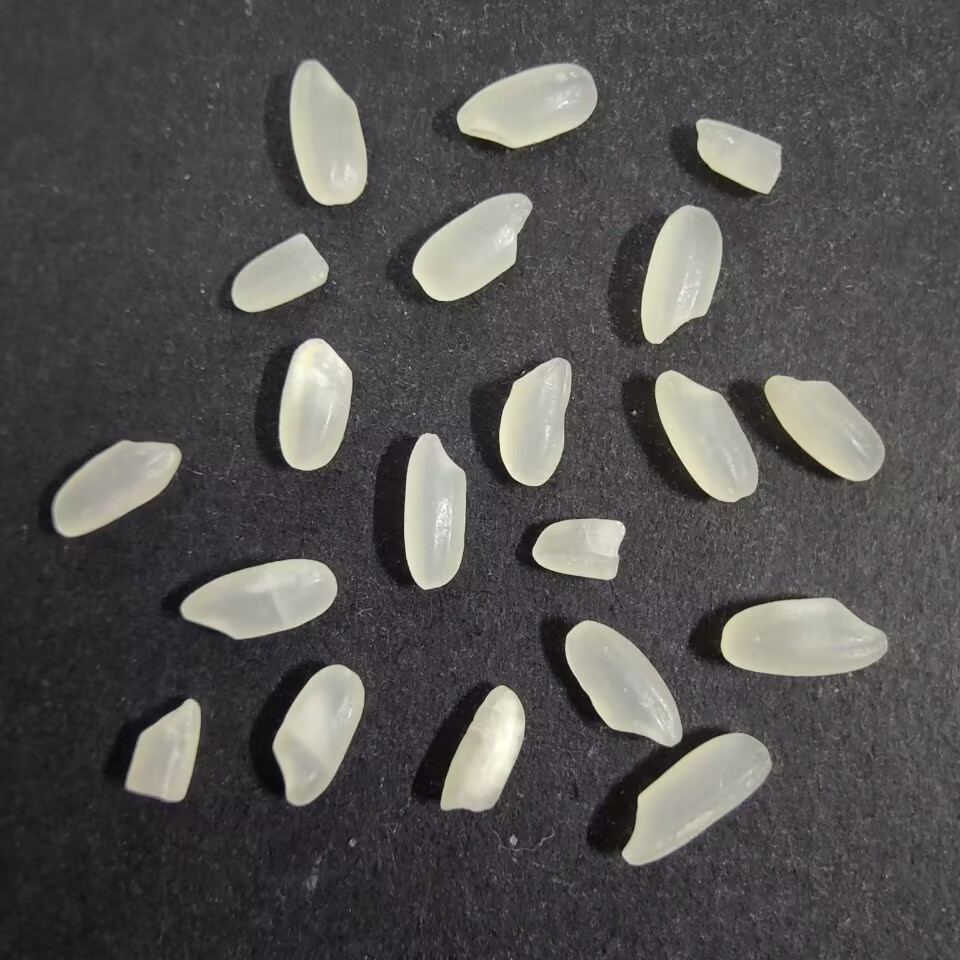broken: (121, 695, 205, 803), (227, 231, 334, 314), (691, 115, 783, 196), (529, 513, 633, 580)
rice: (615, 730, 776, 868), (562, 618, 684, 752), (651, 368, 763, 506), (715, 594, 896, 679), (267, 661, 368, 810), (176, 556, 340, 646), (410, 190, 535, 305), (762, 372, 888, 486), (48, 433, 183, 539), (432, 682, 530, 818), (452, 62, 598, 151), (640, 203, 727, 347), (288, 57, 370, 209), (400, 431, 473, 594), (274, 335, 357, 476), (494, 352, 576, 488)
